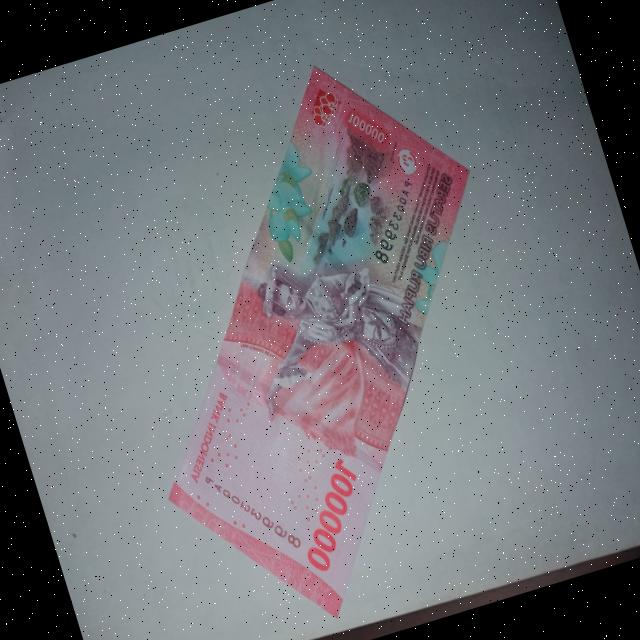100K: (55, 23, 587, 640)
